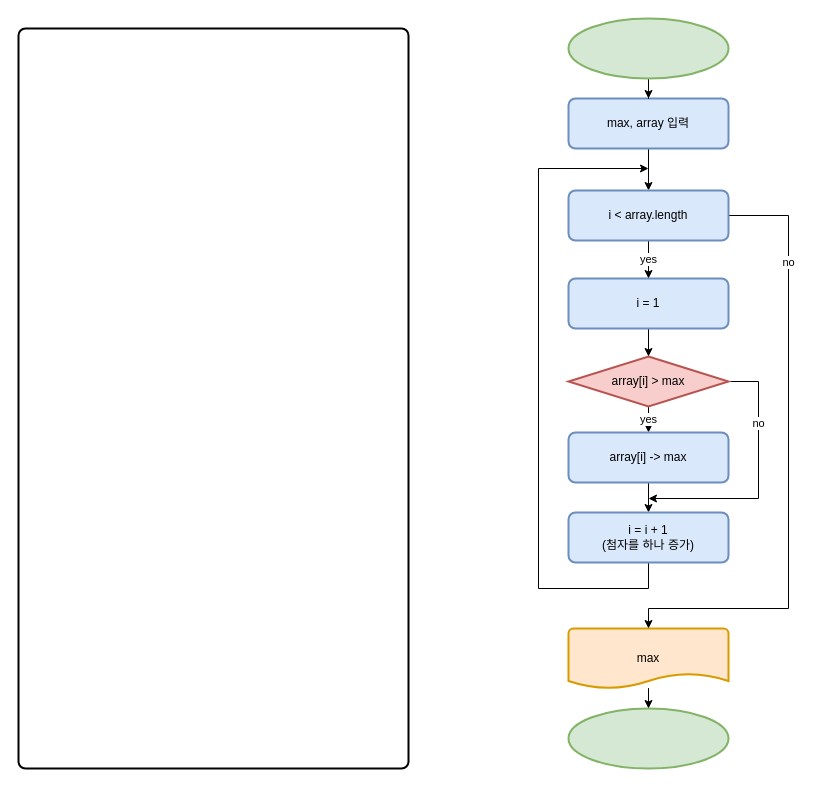
The diagram is 814 pixels wide and 786 high, and some of its shapes have lost their labels. Each missing label, with the centre of its shape:
end: pixel 648 738
max, array 입력 i < array.length 인가?: pixel 213 398
start: pixel 648 48
